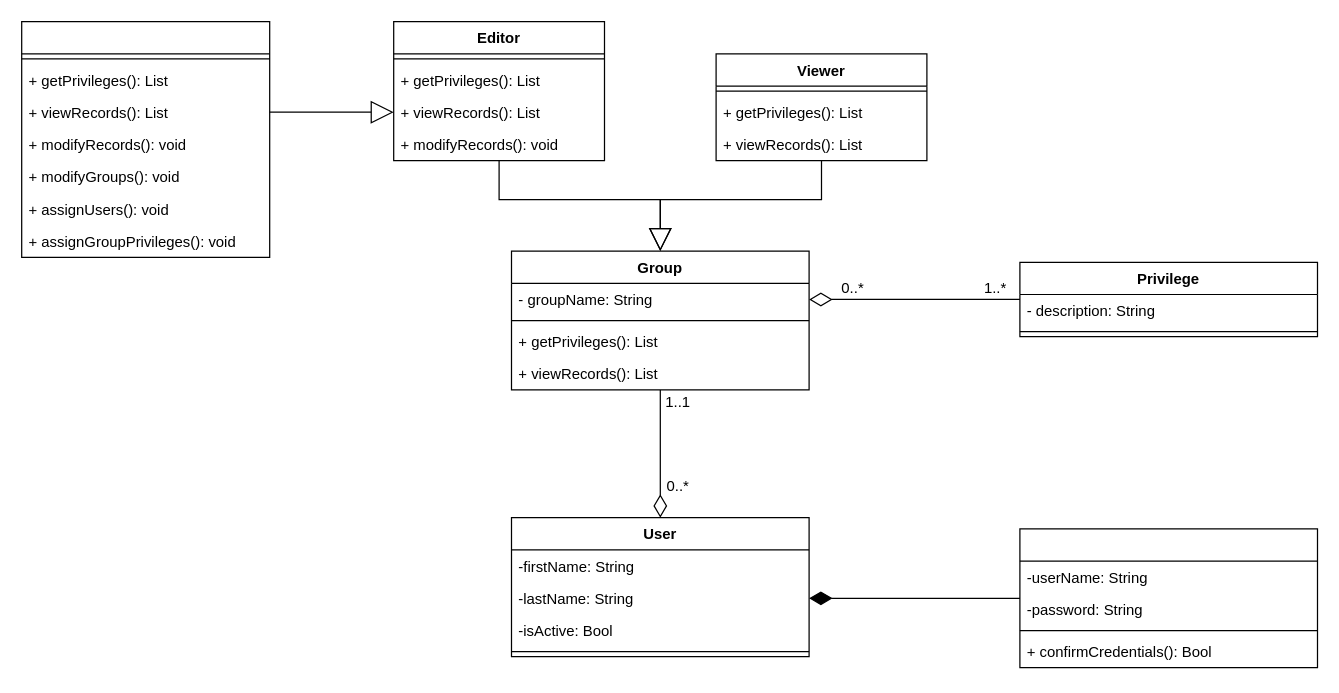
The diagram is 1339 pixels wide and 693 high, and some of its shapes have lost their labels. The box of each missing label's shape, as (x1, y1, x2, y2) in pixels:
Admin: (20, 20, 270, 257)
Login: (1019, 528, 1318, 668)
